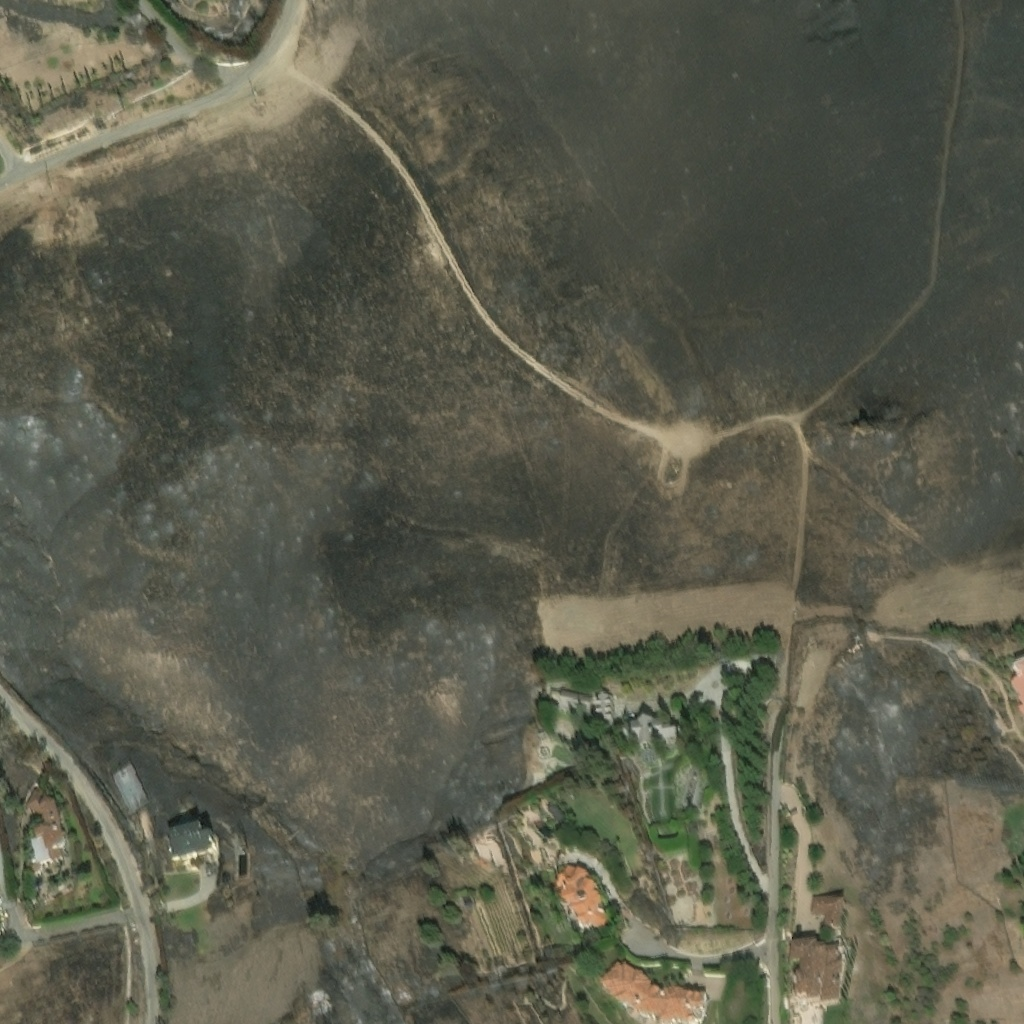0 no-damage: (598, 959, 708, 1023), (552, 860, 609, 928), (790, 940, 846, 1005), (22, 786, 68, 862), (618, 717, 683, 743), (169, 830, 214, 863), (810, 894, 842, 931), (784, 996, 823, 1023), (546, 683, 580, 710), (592, 690, 613, 727), (1010, 657, 1023, 716), (545, 801, 570, 825)
3 destroyed: (309, 984, 326, 1011)
